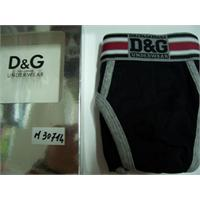mutande: (94, 32, 199, 174)
